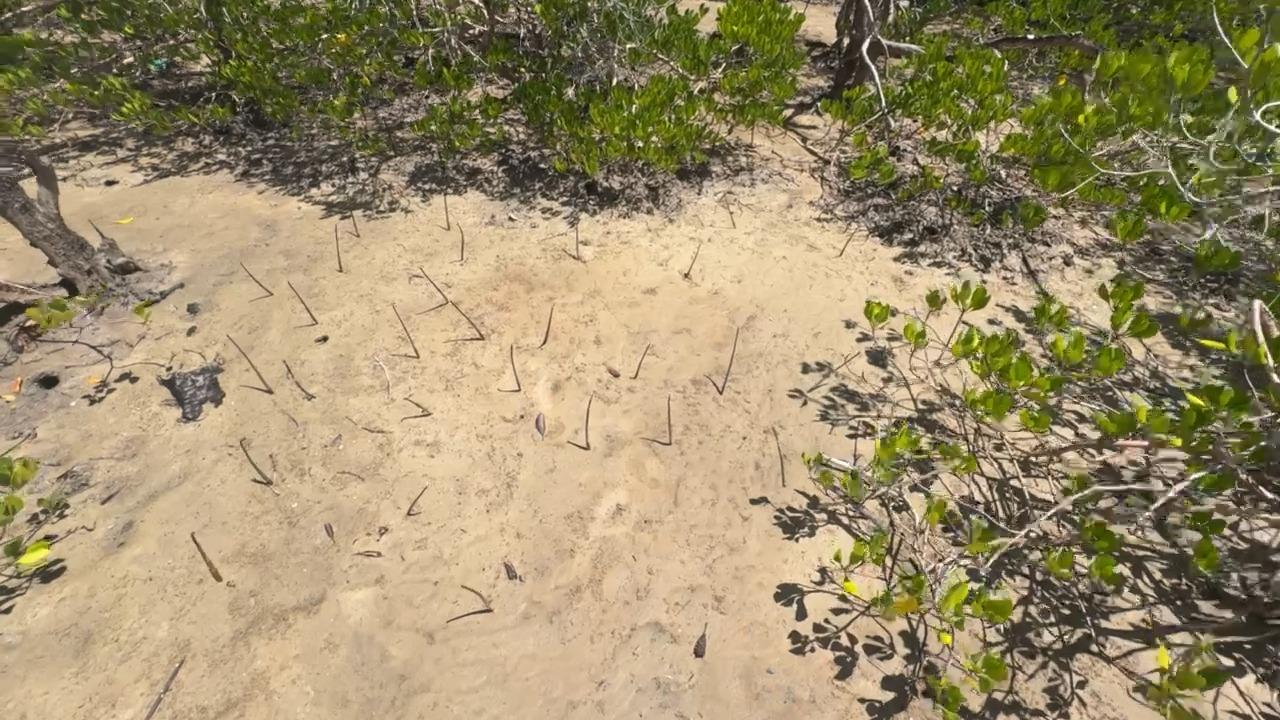Tree: (933, 278, 992, 366), (225, 333, 273, 393), (190, 530, 223, 583), (239, 436, 273, 484), (391, 303, 419, 359), (449, 301, 485, 340), (287, 280, 319, 323), (720, 326, 739, 395), (240, 261, 273, 295), (419, 267, 449, 304), (771, 426, 786, 487), (460, 585, 493, 611), (585, 392, 596, 450), (407, 486, 429, 514), (839, 227, 859, 257), (684, 244, 701, 278), (634, 344, 650, 379), (510, 343, 521, 391), (543, 304, 556, 344), (724, 192, 737, 229), (403, 397, 431, 414), (334, 223, 343, 272), (456, 222, 464, 261), (667, 394, 673, 446), (350, 209, 361, 237), (88, 219, 105, 237), (443, 192, 450, 231), (701, 621, 708, 637), (576, 223, 579, 257)
